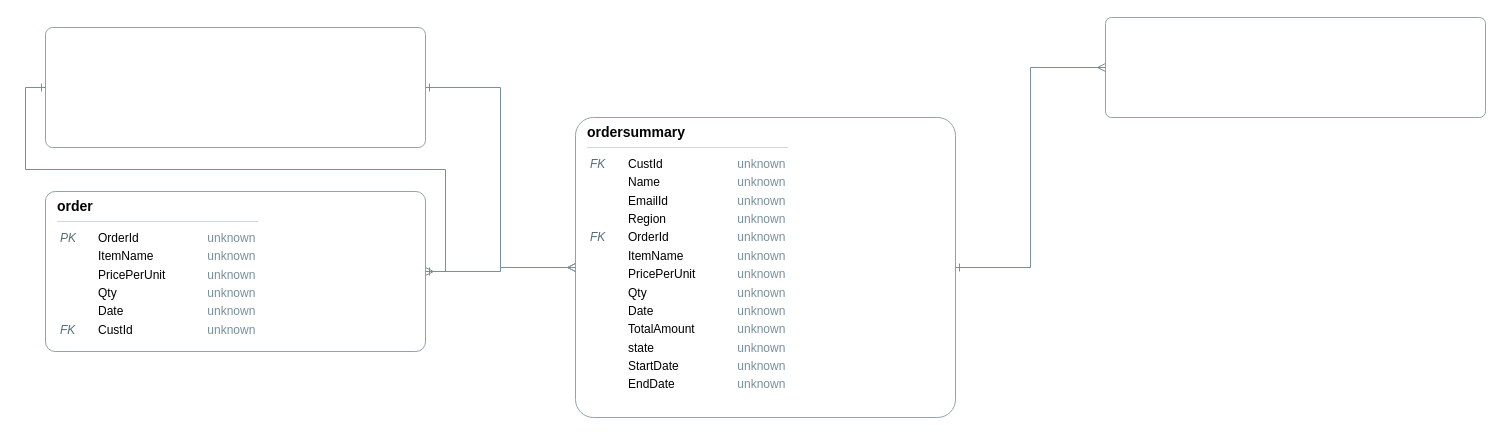
Image size: 1503x435. Some labels were removed from this diagram. The shapes that lost their labels are listed below. From the top down, each one's centre as x and y in pixels, then its label:
At (x=235, y=87): "customer PK CustId unknown Name unknown EmailId unknown Region unknown".
At (x=1295, y=67): "customeraggregatespend Name unknown TotalAmount unknown Date unknown".
